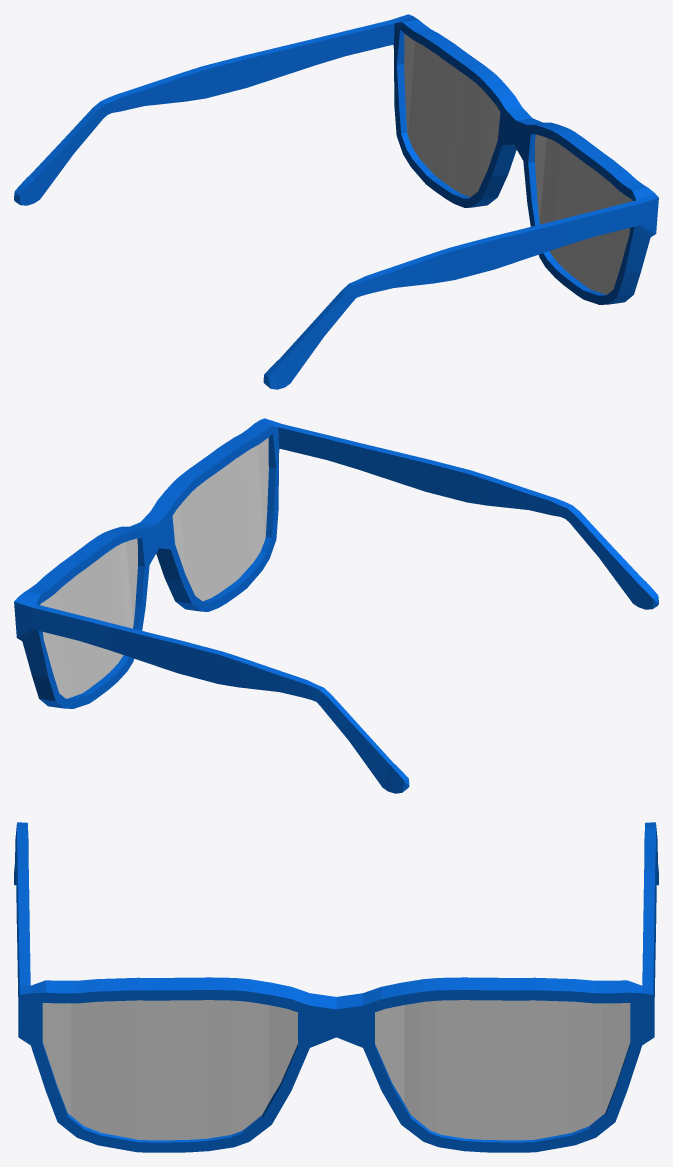
Rendered from Blue.fbx.
The picture shows the model from 3 angles, top to bottom: view 1: azimuth 30°, elevation 25°; view 2: azimuth 150°, elevation 25°; view 3: azimuth 270°, elevation 25°; orthographic projection. The views are drawn at different scales.
Visible parts, largest first — view 1: Frame R, R L, R R; view 2: Frame R, R R, R L; view 3: Frame R, R L, R R.
Boxes of the visible parts, <box> form: Frame R: <box>14,14,658,389</box>; R L: <box>404,33,500,197</box>; R R: <box>535,134,632,294</box>; Frame R: <box>14,418,658,793</box>; R R: <box>172,437,268,601</box>; R L: <box>40,538,137,698</box>; Frame R: <box>14,822,658,1152</box>; R L: <box>375,1000,630,1140</box>; R R: <box>42,1000,297,1140</box>.
Size of the model in its own units: 12.6 by 4.18 by 14.11.
